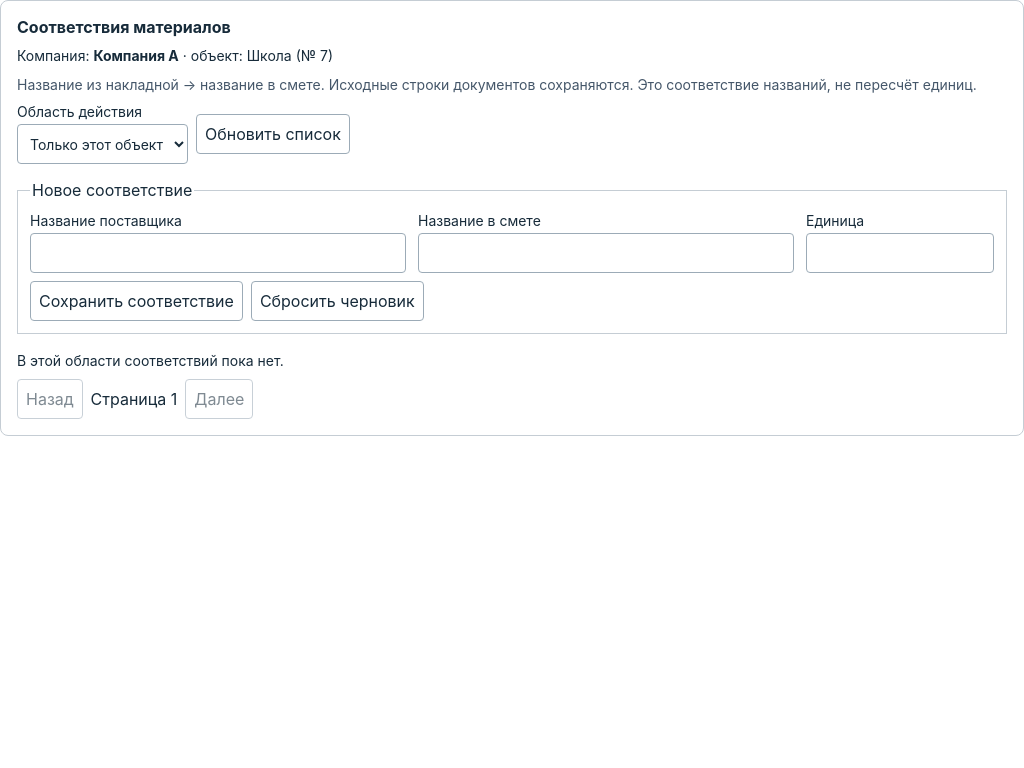
Scenario: create carries exact scope and null precondition
The width and height of the screenshot is (1024, 768).
Expected: the text "В этой области соответствий пока нет." is shown, [17,352,284,369]
Type "Марка" into the field labelled "Название поставщика".
click(218, 253); type("Марка")  # box [30,233,406,273]
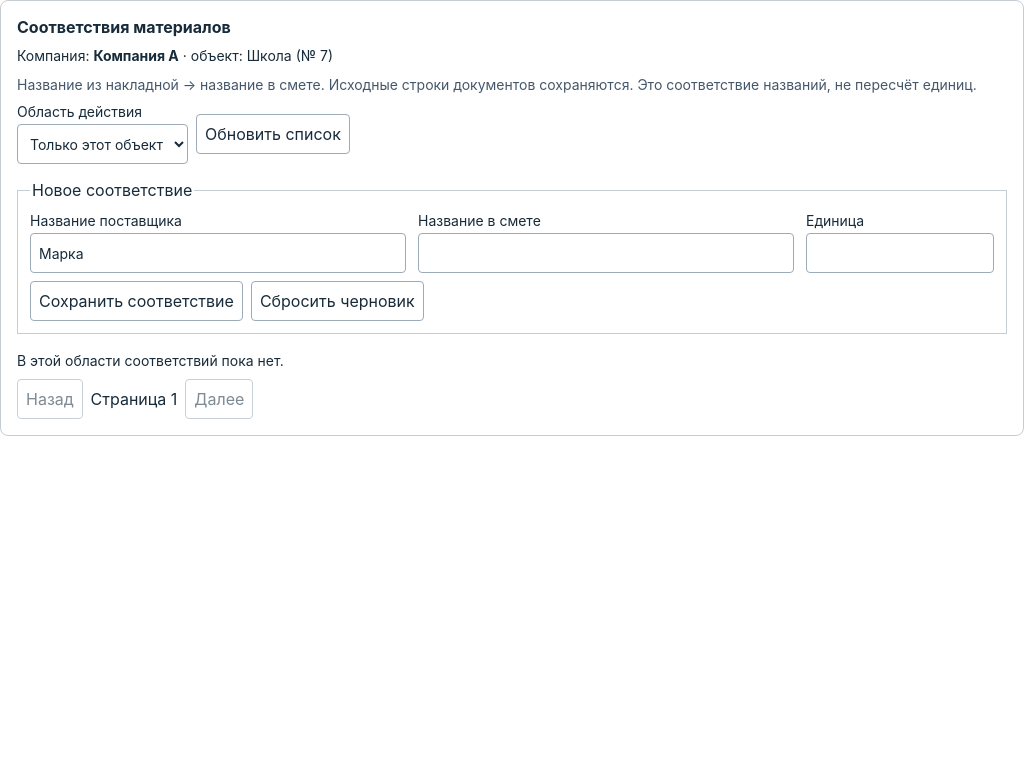
Type "Цемент" into the field labelled "Название в смете".
click(606, 253); type("Цемент")  # box [418,233,794,273]
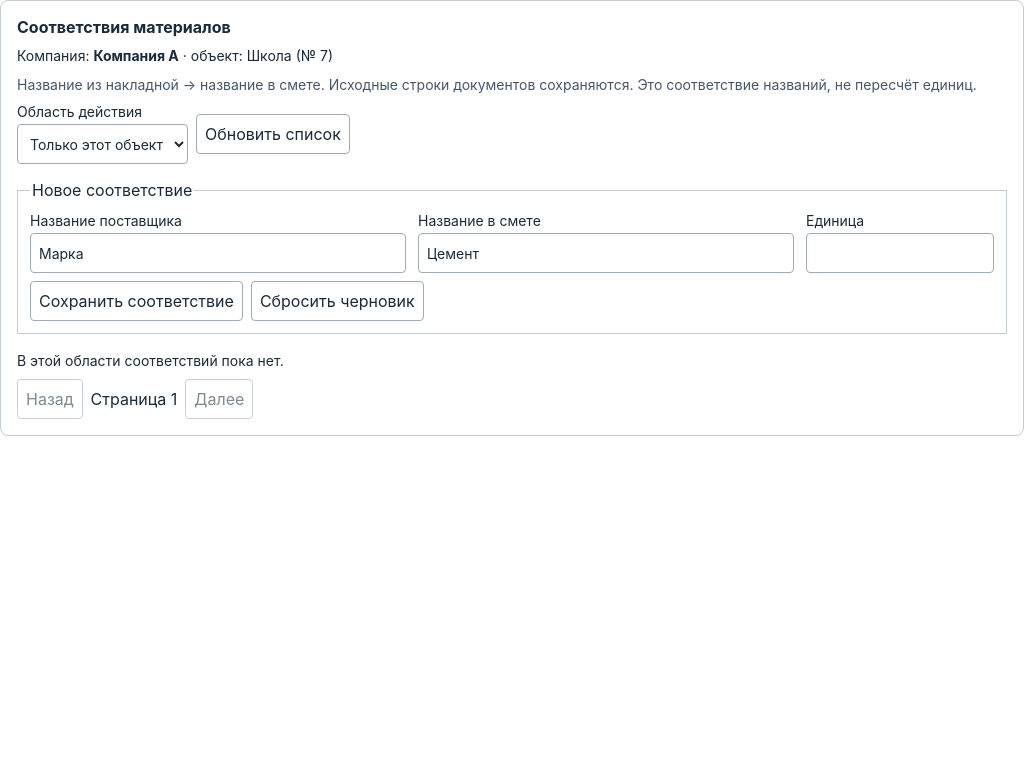
Click the button "Сохранить соответствие".
click(136, 301)  # box [30,281,243,321]
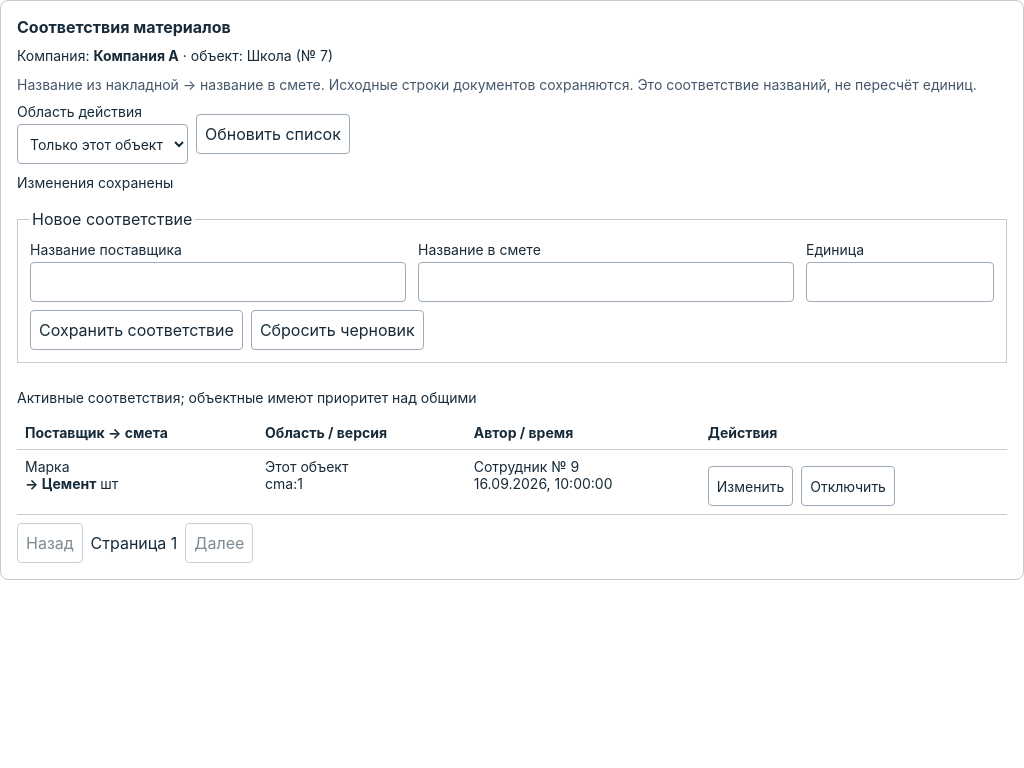
Result: the text "Изменения сохранены" is shown at [17,174,173,191]
